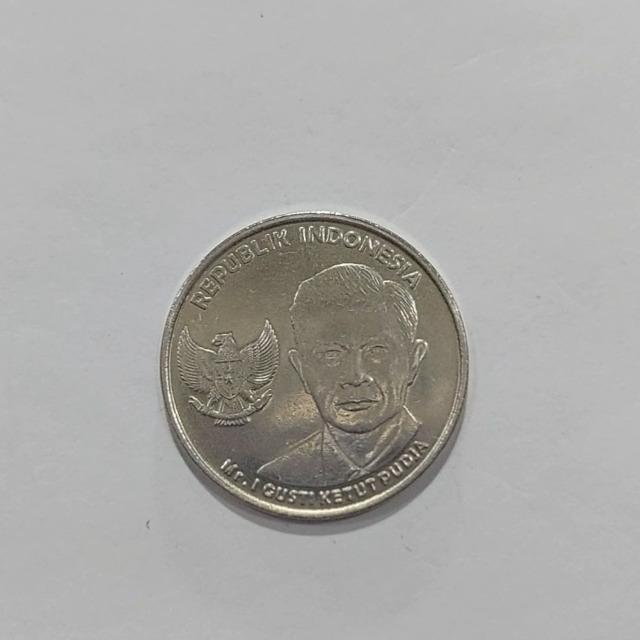Rp100: (158, 209, 470, 523), (250, 259, 432, 492)
